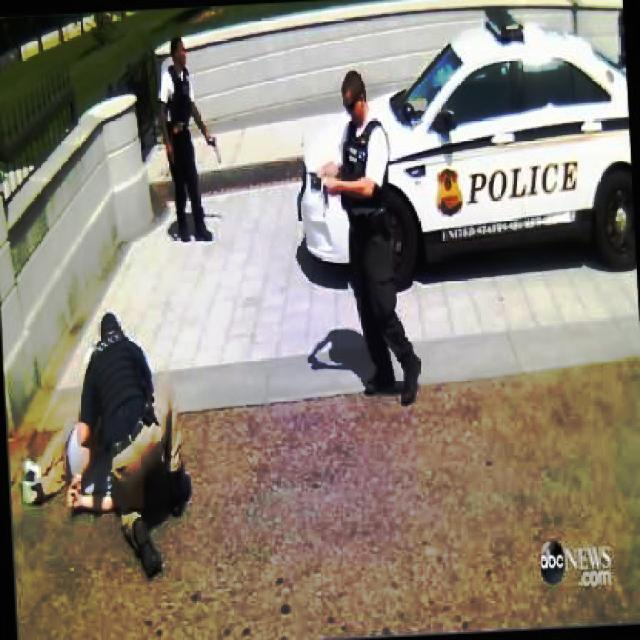Gun: (196, 128, 232, 168)
